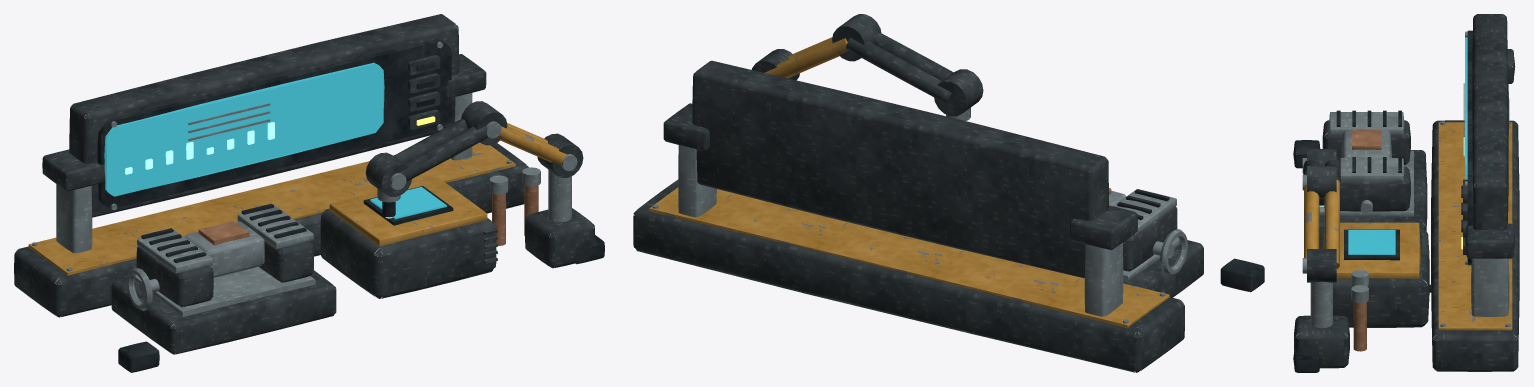
File: engineering_tabletop_module_refined.glb
3 renders of one model, left to right at view 1: azimuth 30°, elevation 25°; view 2: azimuth 150°, elevation 25°; view 3: azimuth 270°, elevation 25°, orthographic. The views are drawn at different scales.
Visible parts, largest first — view 1: engineering_tabletop_module; view 2: engineering_tabletop_module; view 3: engineering_tabletop_module.
Boxes of the visible parts, bbox=[...] form: engineering_tabletop_module: bbox=[14, 14, 604, 372]; engineering_tabletop_module: bbox=[633, 14, 1264, 372]; engineering_tabletop_module: bbox=[1293, 14, 1519, 372].
Bounding box in the file's own units: 1.76 × 0.631 × 0.7669.
8 materials, 5 textured.
